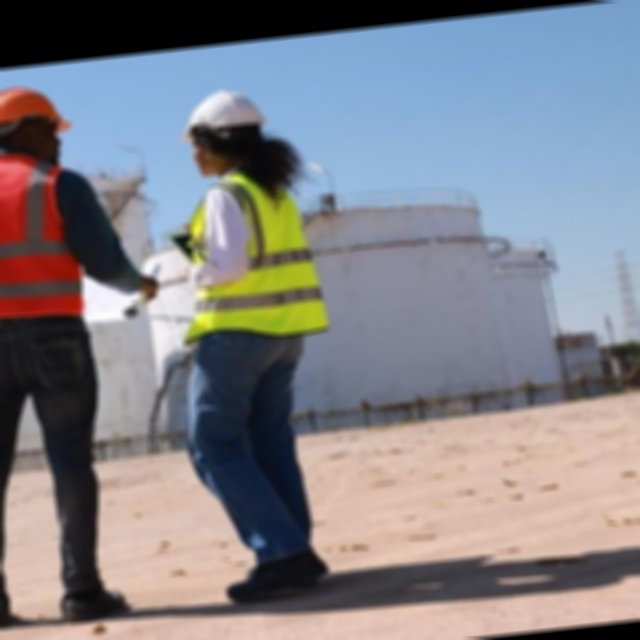Con_Chaleco: (161, 169, 332, 356), (0, 146, 87, 336)
